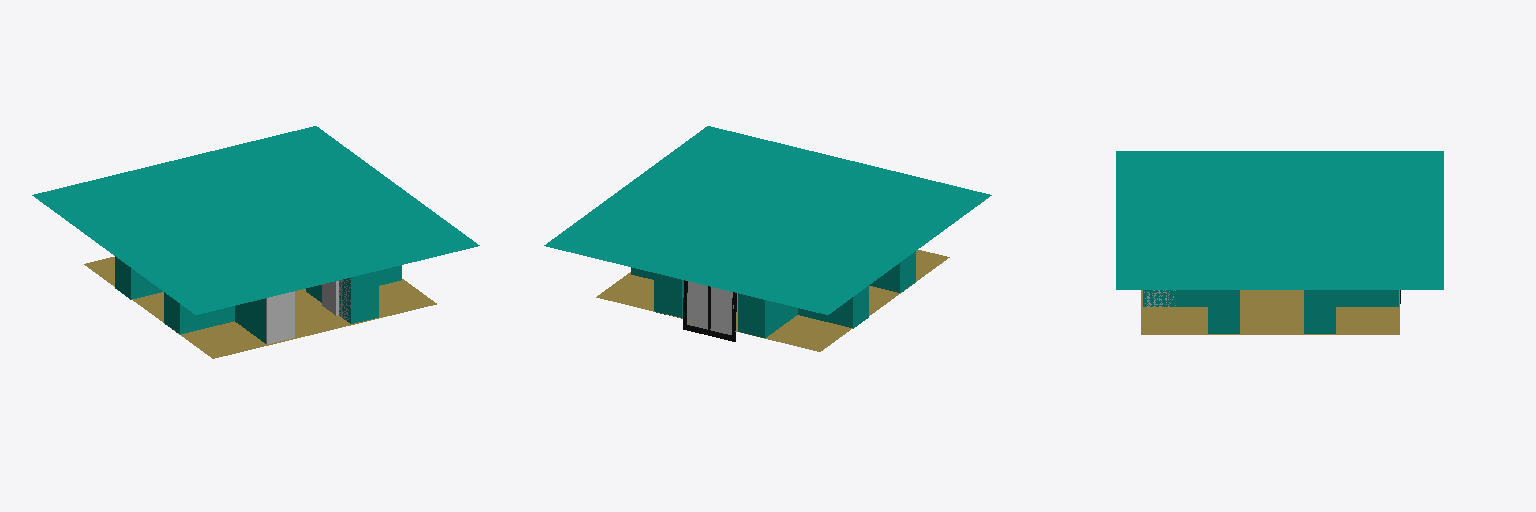
File: stage.obj
The picture shows the model from 3 angles: view 1: azimuth 30°, elevation 25°; view 2: azimuth 150°, elevation 25°; view 3: azimuth 270°, elevation 25°; orthographic projection.
Parts seen in each view (by area): view 1: Plane.010_Plane.011, Plane, Cube.000_Cube.014, Cube.006_Cube.010, Cube.007_Cube.011, Cube.005_Cube.009, Cube.002_Cube.012; view 2: Plane.010_Plane.011, Plane, Slider84x105, Cube.004_Cube.005, Cube.005_Cube.009, Cube.003_Cube.017, Cube.006_Cube.010; view 3: Plane.010_Plane.011, Plane, Cube.001_Cube.016, Cube.009_Cube.015, Cube.003_Cube.017, Cube.000_Cube.014.
Part boxes in pixels (x1,y1,x2,y2): Plane.010_Plane.011: (32, 126, 479, 314); Plane: (84, 257, 436, 358); Cube.000_Cube.014: (306, 271, 378, 323); Cube.006_Cube.010: (164, 292, 234, 334); Cube.007_Cube.011: (266, 291, 294, 344); Cube.005_Cube.009: (115, 256, 162, 299); Cube.002_Cube.012: (235, 298, 265, 343); Plane.010_Plane.011: (544, 126, 991, 314); Plane: (596, 250, 949, 351); Slider84x105: (683, 280, 736, 341); Cube.004_Cube.005: (738, 293, 797, 337); Cube.005_Cube.009: (798, 286, 868, 328); Cube.003_Cube.017: (654, 273, 683, 318); Cube.006_Cube.010: (869, 251, 915, 292); Plane.010_Plane.011: (1116, 151, 1443, 289); Plane: (1141, 290, 1399, 334); Cube.001_Cube.016: (1304, 290, 1335, 333); Cube.009_Cube.015: (1208, 290, 1239, 333); Cube.003_Cube.017: (1336, 290, 1398, 306); Cube.000_Cube.014: (1143, 290, 1207, 306).
Size of the model in its own units: 20.49 by 4.88 by 20.49.